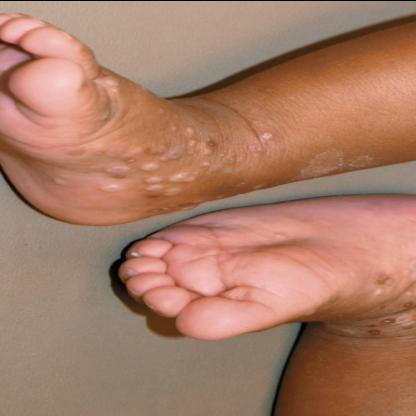Fire ant: (42, 114, 272, 213), (300, 268, 416, 340), (223, 215, 318, 238), (93, 72, 122, 92), (154, 98, 179, 112), (134, 83, 150, 100)
